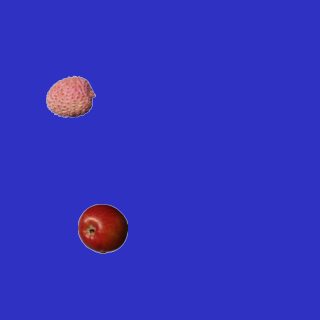Apple Braeburn: (77, 203, 127, 253)
Lychee: (45, 71, 95, 121)
